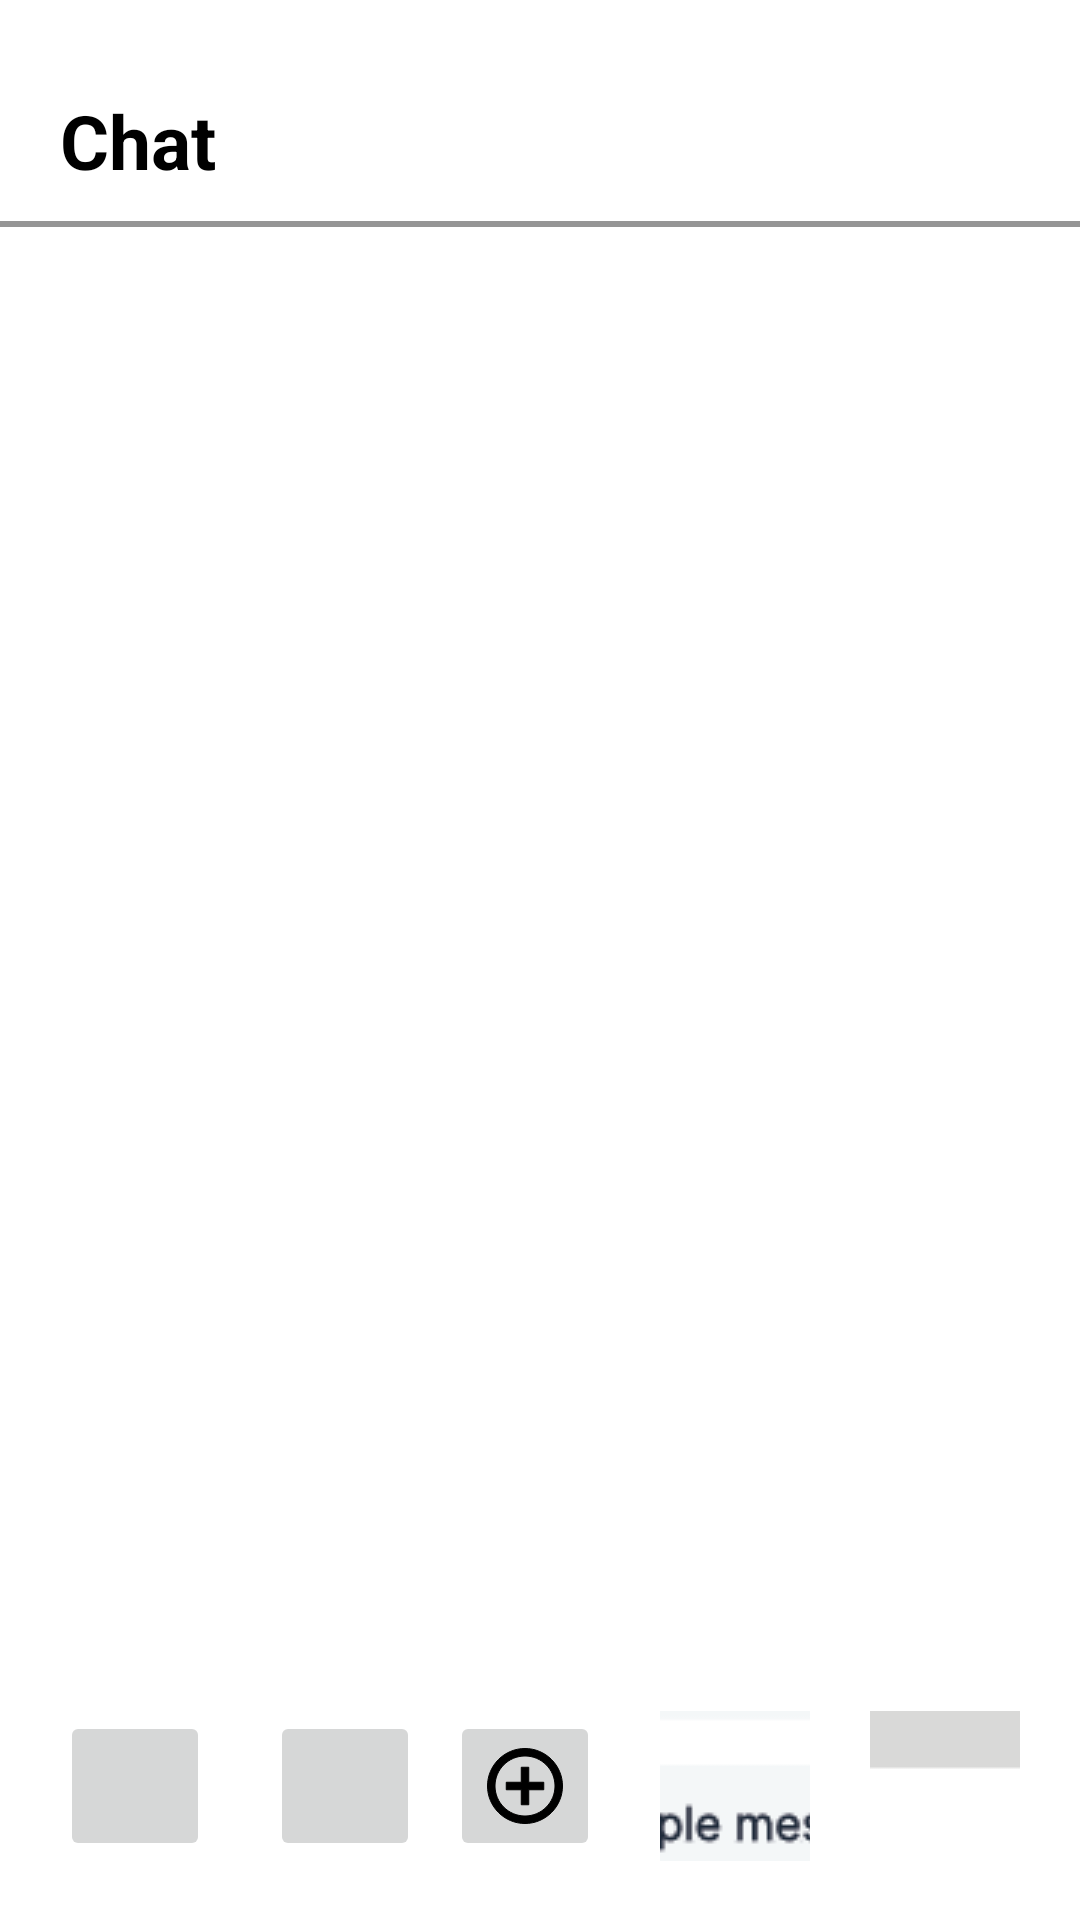

Screen size 1080px×1920px. Icon name, then its center in pixels as [x,y]:
add: [525,1786]
